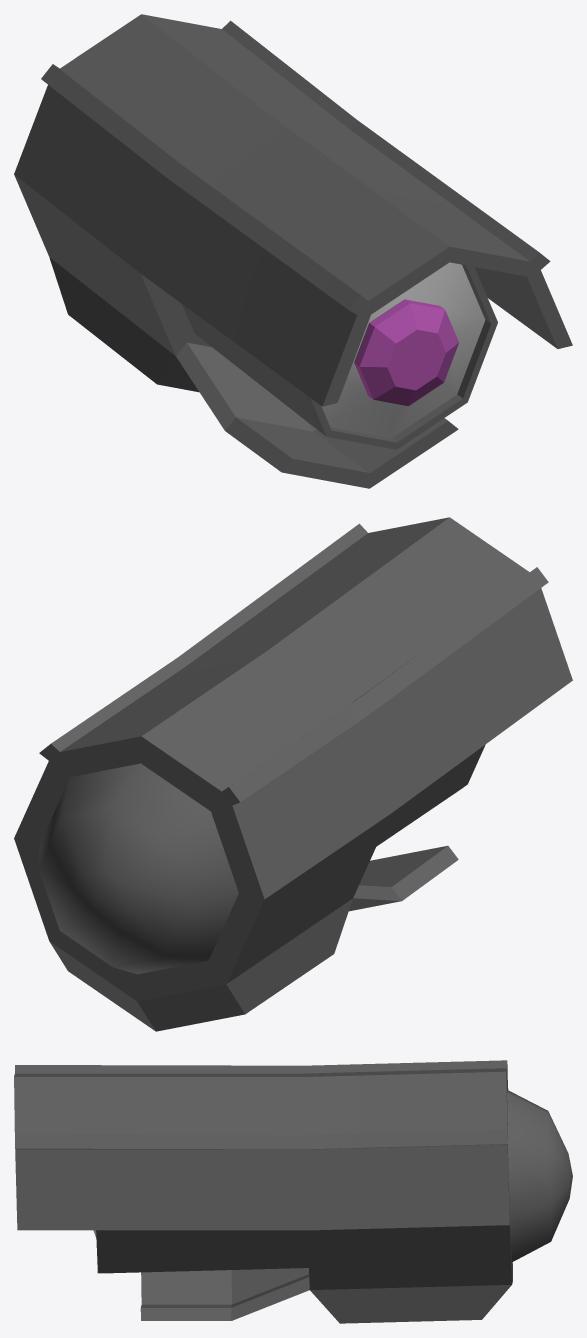
File: camera.fbx
3 renders of one model, top to bottom at view 1: azimuth 30°, elevation 25°; view 2: azimuth 150°, elevation 25°; view 3: azimuth 270°, elevation 25°, orthographic. The views are drawn at different scales.
Visible parts, largest first — view 1: pCylinder5; view 2: pCylinder5; view 3: pCylinder5.
Boxes of the visible parts, x1,y1,x2,y2 form: pCylinder5: (14, 14, 572, 488); pCylinder5: (14, 517, 572, 1031); pCylinder5: (14, 1060, 572, 1323).
Size of the model in its own units: 1.01 by 1.2 by 2.44.
